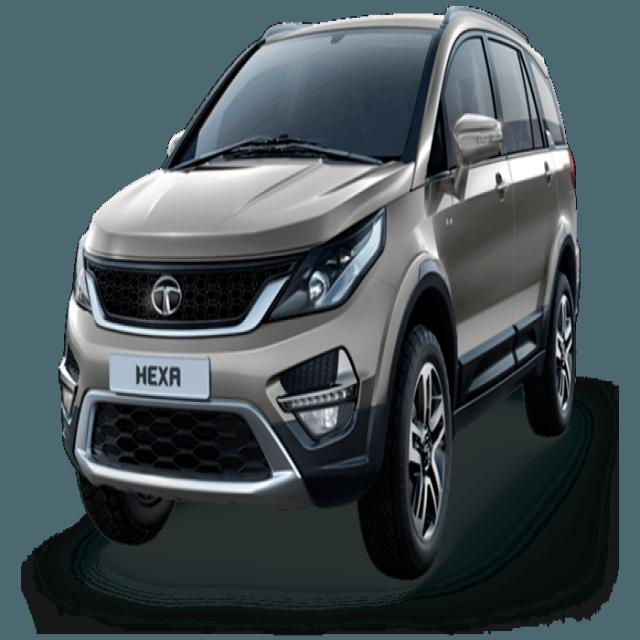Car: (60, 8, 590, 580)
